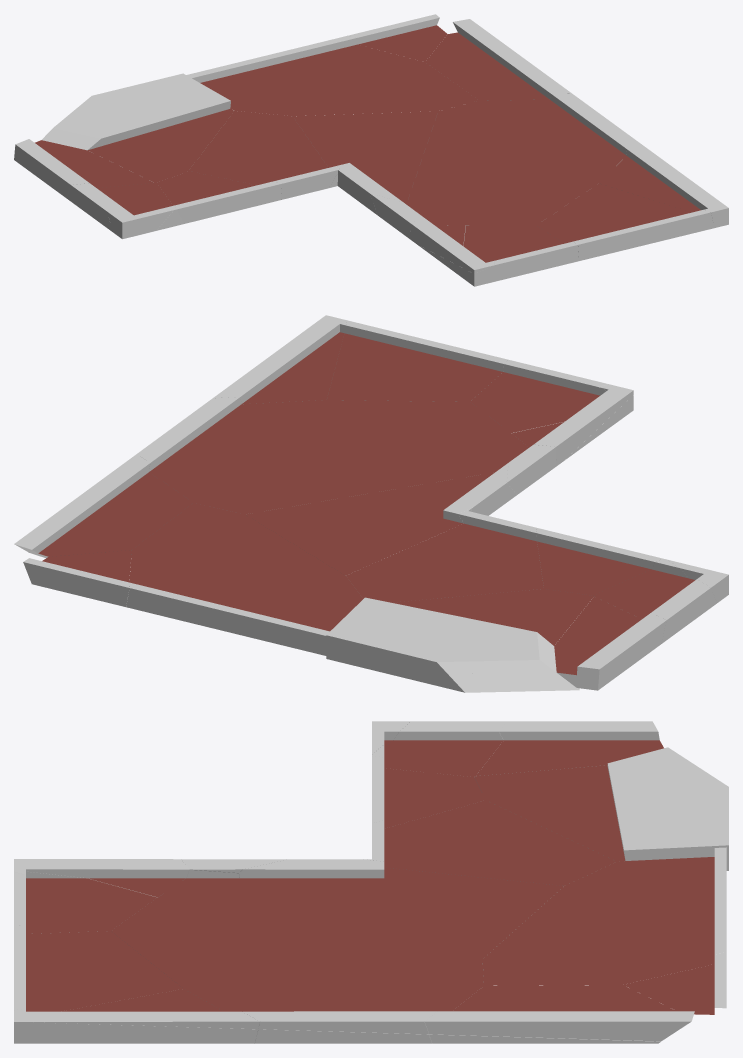
File: roof01_Cx.fbx
3 views of the same model, one above another, from view 1: azimuth 30°, elevation 25°; view 2: azimuth 150°, elevation 25°; view 3: azimuth 270°, elevation 25° (orthographic). The views are drawn at different scales.
Parts seen in each view (by area): view 1: roof01_C.001_cell.013, roof01_C.001_cell.011, roof01_C.001_cell.019, roof01_C.001_cell.017, roof01_C.001_cell.006, roof01_C.001_cell.007, roof01_C.001_cell.018, roof01_C.001_cell.005, roof01_C.001_cell.003, roof01_C.001_cell.008, roof01_C.001_cell.015, roof01_C.001_cell.012 (+5 smaller); view 2: roof01_C.001_cell.013, roof01_C.001_cell.011, roof01_C.001_cell.006, roof01_C.001_cell.019, roof01_C.001_cell.017, roof01_C.001_cell.007, roof01_C.001_cell.018, roof01_C.001_cell.005, roof01_C.001_cell.015, roof01_C.001_cell.008, roof01_C.001_cell.003, roof01_C.001_cell.012 (+5 smaller); view 3: roof01_C.001_cell.013, roof01_C.001_cell.011, roof01_C.001_cell.019, roof01_C.001_cell.018, roof01_C.001_cell.017, roof01_C.001_cell.006, roof01_C.001_cell.007, roof01_C.001_cell.008, roof01_C.001_cell.003, roof01_C.001_cell.015, roof01_C.001_cell.005, roof01_C.001_cell.014 (+5 smaller).
Boxes of the visible parts, <box> form: roof01_C.001_cell.013: <box>406,93,634,225</box>; roof01_C.001_cell.011: <box>186,35,478,116</box>; roof01_C.001_cell.019: <box>293,111,438,215</box>; roof01_C.001_cell.017: <box>189,111,341,199</box>; roof01_C.001_cell.006: <box>42,73,230,150</box>; roof01_C.001_cell.007: <box>536,183,714,260</box>; roof01_C.001_cell.018: <box>425,19,571,100</box>; roof01_C.001_cell.005: <box>417,225,578,286</box>; roof01_C.001_cell.003: <box>88,108,233,182</box>; roof01_C.001_cell.008: <box>599,139,728,227</box>; roof01_C.001_cell.015: <box>14,139,154,198</box>; roof01_C.001_cell.012: <box>157,171,281,223</box>; roof01_C.001_cell.013: <box>137,397,528,514</box>; roof01_C.001_cell.011: <box>126,502,362,655</box>; roof01_C.001_cell.006: <box>326,597,579,692</box>; roof01_C.001_cell.019: <box>245,463,516,575</box>; roof01_C.001_cell.017: <box>346,508,543,602</box>; roof01_C.001_cell.007: <box>327,320,507,401</box>; roof01_C.001_cell.018: <box>14,454,193,558</box>; roof01_C.001_cell.005: <box>470,359,633,460</box>; roof01_C.001_cell.015: <box>554,596,666,690</box>; roof01_C.001_cell.008: <box>213,315,347,404</box>; roof01_C.001_cell.003: <box>392,589,593,645</box>; roof01_C.001_cell.012: <box>536,527,662,595</box>; roof01_C.001_cell.013: <box>111,870,483,1043</box>; roof01_C.001_cell.011: <box>482,847,726,985</box>; roof01_C.001_cell.019: <box>239,859,563,958</box>; roof01_C.001_cell.018: <box>425,985,694,1043</box>; roof01_C.001_cell.017: <box>364,800,616,885</box>; roof01_C.001_cell.006: <box>607,747,728,870</box>; roof01_C.001_cell.007: <box>14,925,183,1011</box>; roof01_C.001_cell.008: <box>14,989,259,1043</box>; roof01_C.001_cell.003: <box>474,765,625,861</box>; roof01_C.001_cell.015: <box>476,721,663,776</box>; roof01_C.001_cell.005: <box>14,871,157,933</box>; roof01_C.001_cell.014: <box>372,721,506,777</box>.
Size of the model in its own units: 1644 by 65.57 by 1653.
